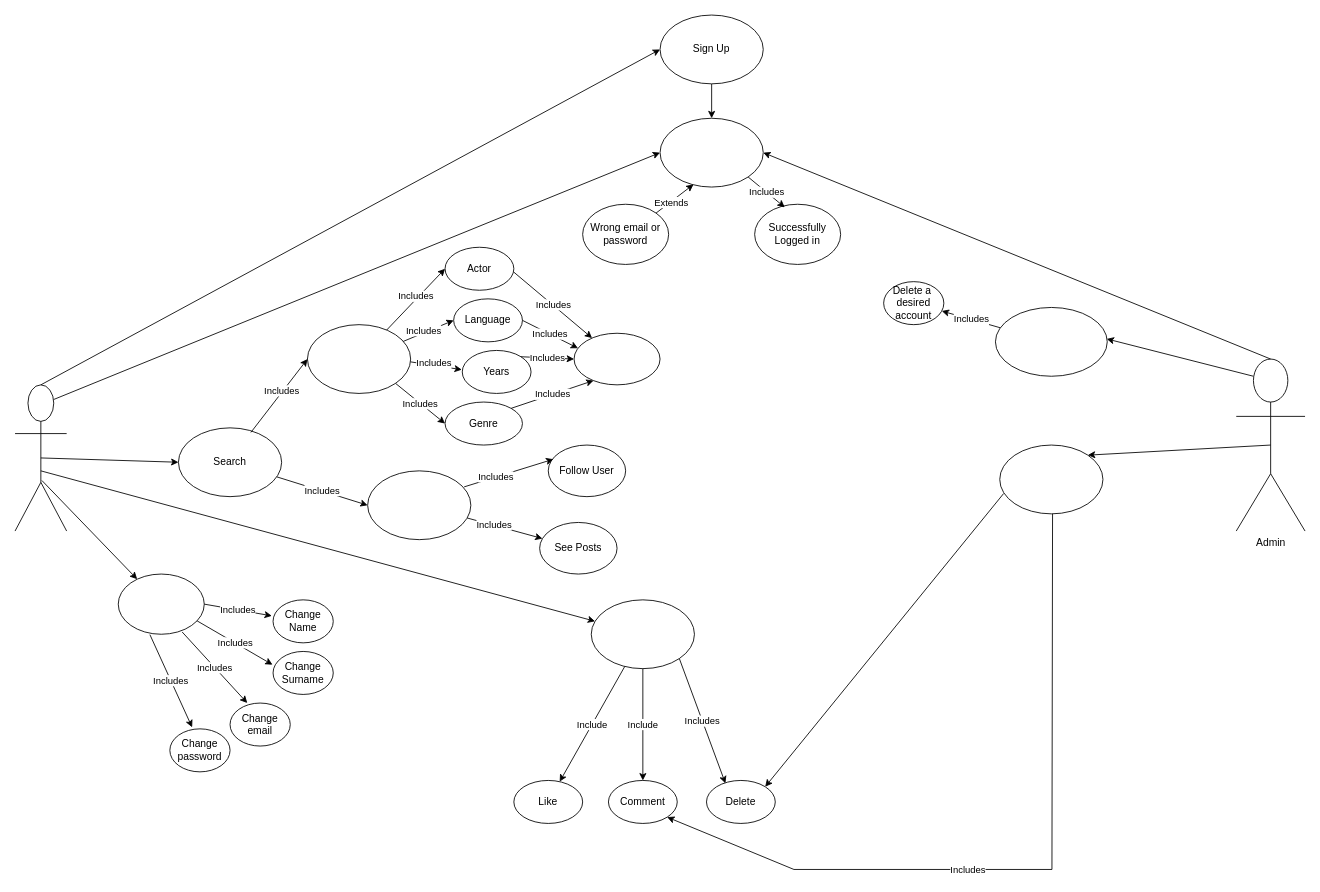
Some shapes in this 1320 by 892 pixel diagram are drawn without their labels. Here are the shapes that lost their labels. From the top down, the centre of each, then its label:
At [711,152]: "Log In".
At [359,358]: "Movie Series".
At [616,358]: "Add watch list".
At [1051,341]: "Delete User's Account".
At [40,457]: "User".
At [1051,479]: "Manage".
At [419,505]: "User's profile".
At [160,603]: "Account Settings".
At [642,634]: "Posts".
